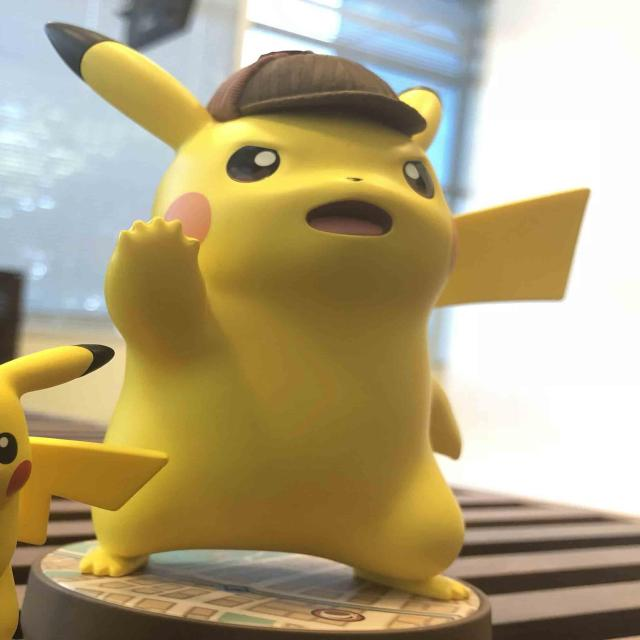pikachu: (47, 24, 586, 586), (0, 343, 109, 638)
